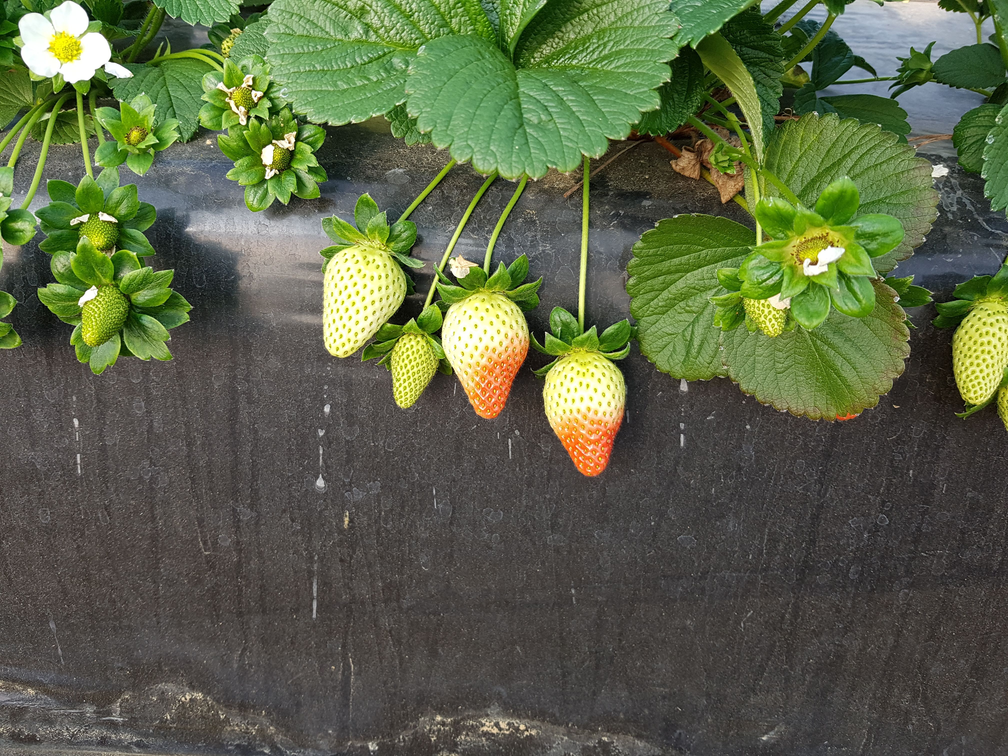peduncle: (437, 171, 495, 272), (483, 176, 525, 275), (400, 159, 456, 221), (578, 157, 589, 329), (76, 92, 92, 177), (424, 279, 438, 308)
strawberry: (442, 290, 528, 418), (545, 350, 625, 473), (324, 244, 405, 357), (953, 301, 1007, 403), (391, 334, 437, 407)
